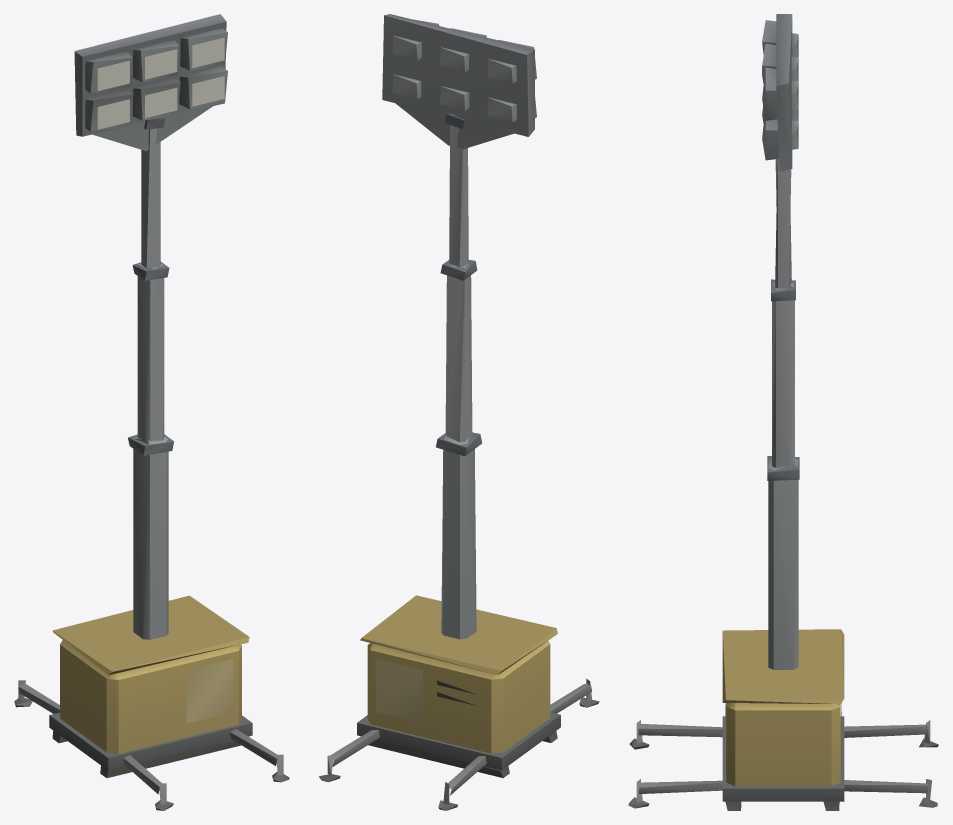
Rendered from lamp.lod1.glb.
The picture shows the model from 3 angles, left to right: view 1: azimuth 30°, elevation 25°; view 2: azimuth 150°, elevation 25°; view 3: azimuth 270°, elevation 25°; orthographic projection. The views are drawn at different scales.
Size of the model in its own units: 1.92 by 9 by 3.48.
